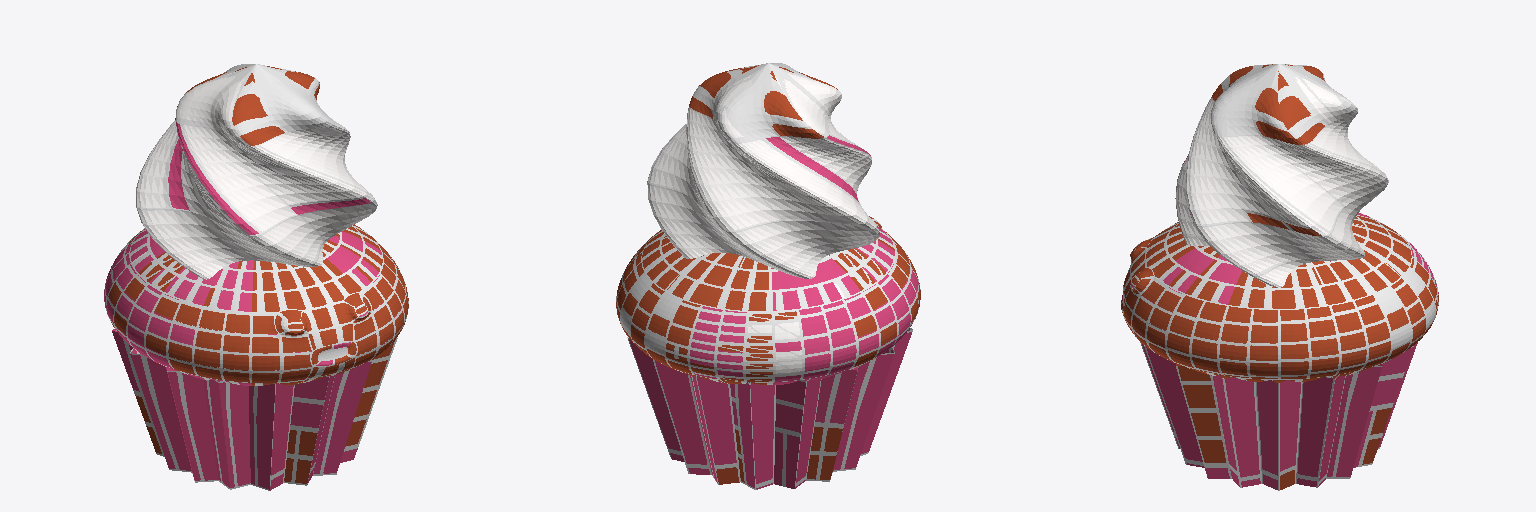
3 renders of one model, left to right at view 1: azimuth 30°, elevation 25°; view 2: azimuth 150°, elevation 25°; view 3: azimuth 270°, elevation 25°, orthographic.
Parts seen in each view (by area): view 1: Star.002, Sphere, Circle.001; view 2: Star.002, Sphere, Circle.001; view 3: Sphere, Star.002, Circle.001.
Part boxes in pixels (x1,y1,x2,y2): Star.002: (136,64,377,279); Sphere: (104,224,408,385); Circle.001: (112,329,397,490); Star.002: (647,63,879,278); Sphere: (616,216,920,384); Circle.001: (627,328,912,489); Sphere: (1121,213,1438,382); Star.002: (1175,64,1388,287); Circle.001: (1140,342,1417,490).
Size of the model in its own units: 1.17 by 1.66 by 1.24.
Materials: 2 (1 with a texture image).